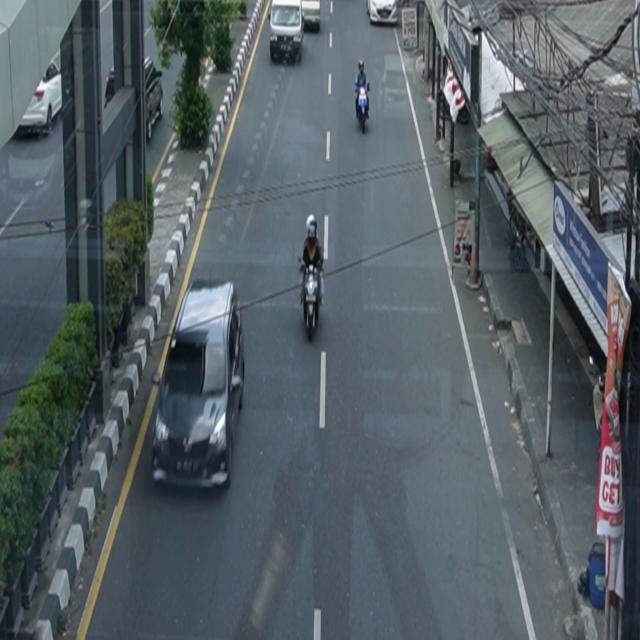car: (151, 278, 246, 491), (19, 55, 64, 138), (270, 1, 305, 66), (367, 1, 398, 26), (302, 1, 322, 33)
